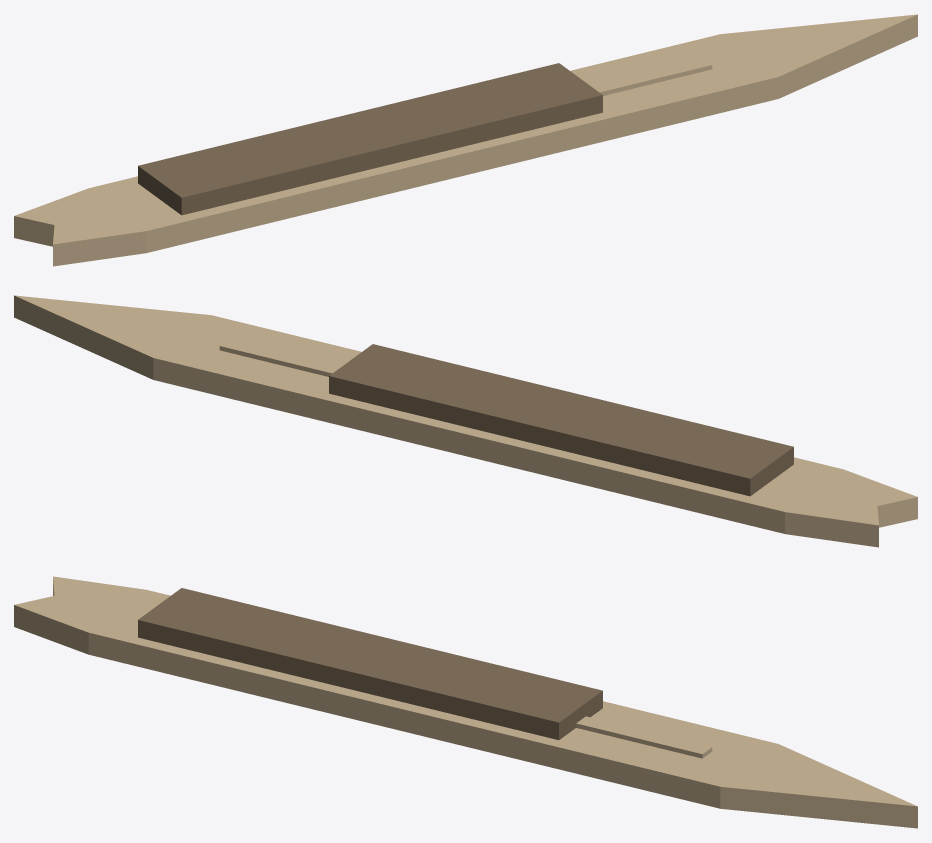
Rendered from prop-net-needle.fbx.
3 renders of one model, top to bottom at view 1: azimuth 30°, elevation 25°; view 2: azimuth 150°, elevation 25°; view 3: azimuth 330°, elevation 25°, orthographic.
Visible parts, largest first — view 1: prop-net-needle; view 2: prop-net-needle; view 3: prop-net-needle.
Boxes of the visible parts, bbox=[...] form: prop-net-needle: bbox=[14, 14, 917, 266]; prop-net-needle: bbox=[14, 295, 917, 547]; prop-net-needle: bbox=[14, 576, 917, 828].
Bounding box in the file's own units: 21 × 0.9 × 2.4.
